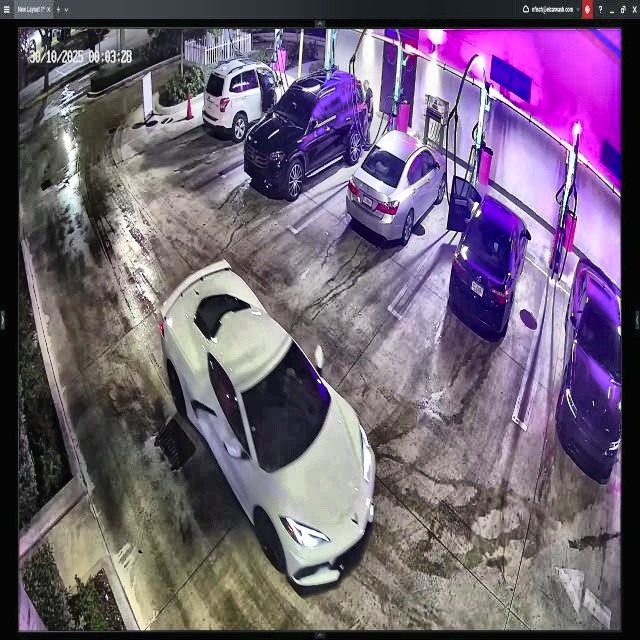Car: (164, 258, 378, 590), (246, 70, 370, 196), (451, 173, 531, 348), (349, 129, 447, 244)
